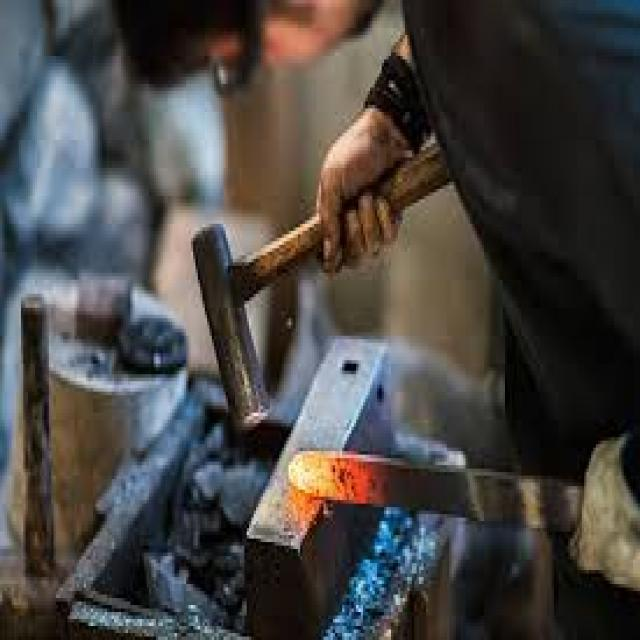hammer: (188, 142, 450, 428)
